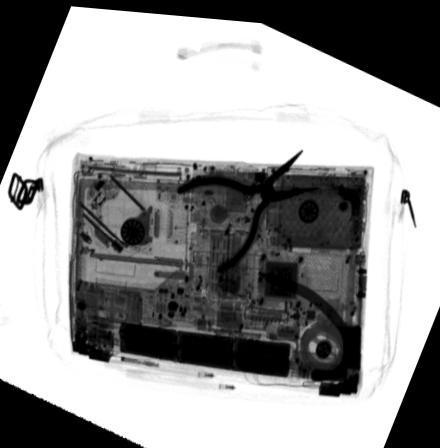Pliers: (175, 144, 321, 272)
